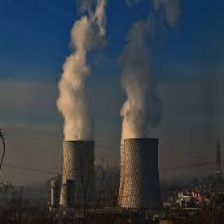smoke: (55, 9, 164, 137)
